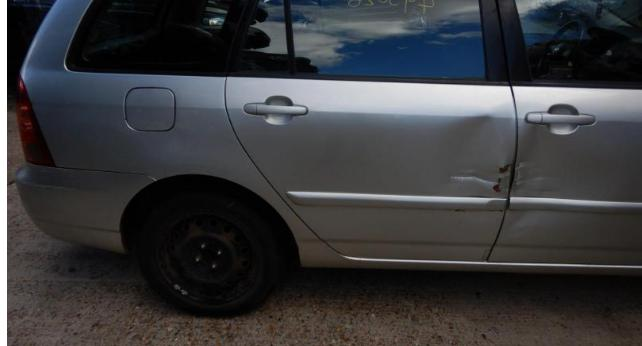Dent: (451, 113, 507, 167), (503, 211, 553, 239), (445, 172, 502, 188)
Paint damage: (491, 178, 502, 192), (499, 164, 512, 174)
Scratch: (512, 160, 547, 189), (530, 188, 560, 191)
